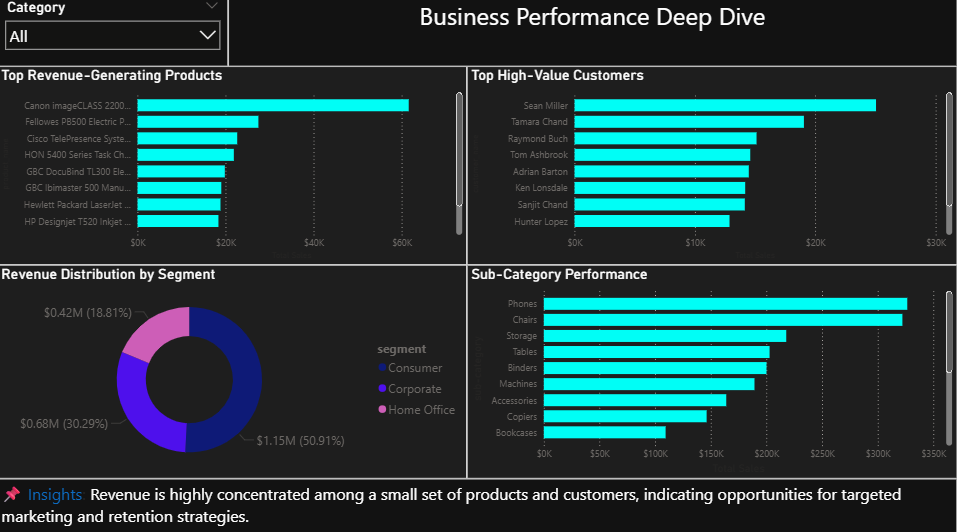

The dashboard page shown, as its layout file describes it:
{"tool":"powerbi","page":{"name":"Business Performance","canvas":[1280,720],"ordinal":1},"visuals":[{"type":"clusteredBarChart","title":"Top Revenue-Generating Products","fields":{"Category":["cleaned_sales.product_name"],"Y":["cleaned_sales.Total Sales"]},"box":[0,95,626.7,265],"z":0},{"type":"clusteredBarChart","title":"Top High-Value Customers","fields":{"Category":["cleaned_sales.customer_name"],"Y":["cleaned_sales.Total Sales"]},"box":[626.7,95,653.3,265],"z":1000},{"type":"donutChart","title":"Revenue Distribution by Segment","fields":{"Category":["cleaned_sales.segment"],"Y":["cleaned_sales.Total Sales"]},"box":[0,360,626.7,285],"z":2000},{"type":"clusteredBarChart","title":"Sub-Category Performance","fields":{"Y":["cleaned_sales.Total Sales"],"Category":["cleaned_sales.sub-category"]},"box":[626.7,360,653.3,285],"z":3000},{"type":"slicer","fields":{"Values":["cleaned_sales.category"]},"box":[0,0,308.3,95],"z":4000},{"type":"textbox","box":[308.3,0,971.7,95],"z":5000},{"type":"textbox","box":[0,645,1280,75],"z":6000}]}

Visuals, with their boxes in screenshot pixels (x1, y1, x2, y2), scaled from the page's 1280x720 canvas onto the 957x532 screenshot:
"Top Revenue-Generating Products" clusteredBarChart: crop(0, 70, 469, 266)
"Top High-Value Customers" clusteredBarChart: crop(469, 70, 956, 266)
"Revenue Distribution by Segment" donutChart: crop(0, 266, 469, 477)
"Sub-Category Performance" clusteredBarChart: crop(469, 266, 956, 477)
slicer - cleaned_sales.category: crop(0, 0, 231, 70)
textbox: crop(231, 0, 956, 70)
textbox: crop(0, 477, 956, 531)
